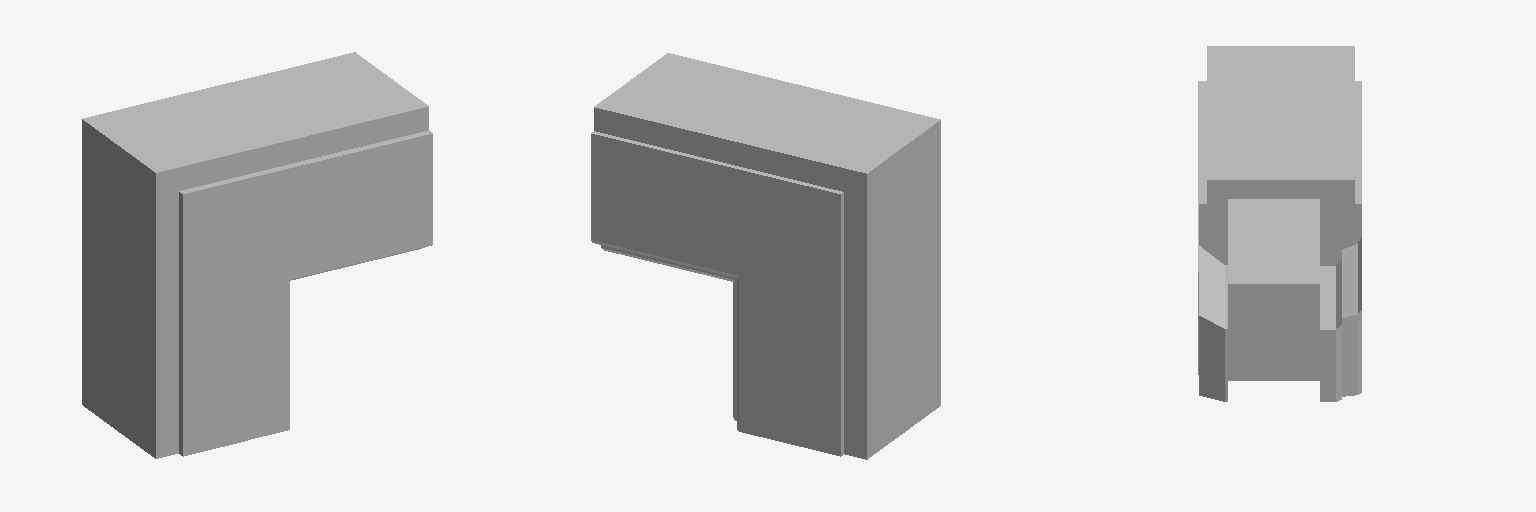
The model's file is original-20.obj.
3 views of the same model, side by side, from view 1: azimuth 30°, elevation 25°; view 2: azimuth 150°, elevation 25°; view 3: azimuth 270°, elevation 25° (orthographic).
Parts seen in each view (by area): view 1: TF_TL1/TF_TL/mesh165/mesh165-geometry#mesh165-geometry; view 2: TF_TL1/TF_TL/mesh165/mesh165-geometry#mesh165-geometry; view 3: TF_TL1/TF_TL/mesh165/mesh165-geometry#mesh165-geometry.
Boxes of the visible parts, <box> form: TF_TL1/TF_TL/mesh165/mesh165-geometry#mesh165-geometry: <box>82,52,432,458</box>; TF_TL1/TF_TL/mesh165/mesh165-geometry#mesh165-geometry: <box>591,53,940,459</box>; TF_TL1/TF_TL/mesh165/mesh165-geometry#mesh165-geometry: <box>1198,46,1361,401</box>.
Bounding box in the file's own units: 0.0978 × 0.0978 × 0.0505.